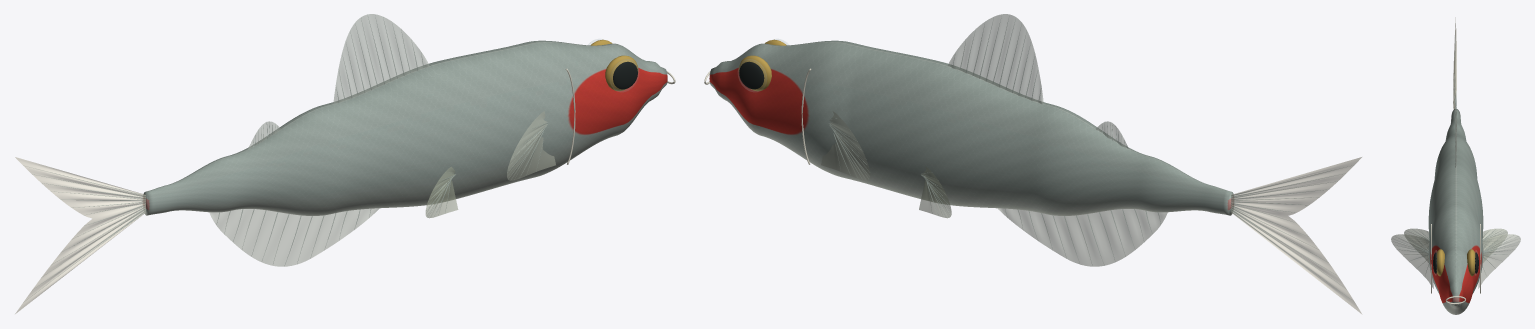
File: rummy-desktop.glb
3 renders of one model, left to right at view 1: azimuth 30°, elevation 25°; view 2: azimuth 150°, elevation 25°; view 3: azimuth 270°, elevation 25°, orthographic. The views are drawn at different scales.
Visible parts, largest first — view 1: skin, tail, anal, dorsal, dorsal-ray, pectoral-left, pelvic-left, eye-pupil--1, eye-iris--1; view 2: skin, tail, anal, dorsal, dorsal-ray, pectoral-left, pelvic-left, eye-pupil--1, eye-iris--1; view 3: skin, pectoral-left, pelvic-left, dorsal-ray, eye-iris--1, tail, operculum, eye-pupil--1, dorsal.
Part boxes in pixels (bbox=[...]): skin: bbox=[143, 40, 667, 215]; tail: bbox=[15, 157, 145, 313]; anal: bbox=[209, 208, 379, 266]; dorsal: bbox=[248, 14, 429, 149]; dorsal-ray: bbox=[25, 15, 548, 295]; pectoral-left: bbox=[507, 111, 555, 180]; pelvic-left: bbox=[425, 167, 458, 218]; eye-pupil--1: bbox=[613, 61, 637, 89]; eye-iris--1: bbox=[591, 39, 638, 91]; skin: bbox=[709, 40, 1233, 215]; tail: bbox=[1231, 157, 1361, 313]; anal: bbox=[998, 208, 1167, 266]; dorsal: bbox=[948, 14, 1128, 148]; dorsal-ray: bbox=[828, 18, 1351, 299]; pectoral-left: bbox=[821, 111, 870, 180]; pelvic-left: bbox=[919, 167, 951, 218]; eye-pupil--1: bbox=[739, 61, 764, 89]; eye-iris--1: bbox=[738, 39, 786, 91]; skin: bbox=[1428, 109, 1483, 314]; pectoral-left: bbox=[1391, 234, 1520, 288]; pelvic-left: bbox=[1404, 228, 1507, 262]; dorsal-ray: bbox=[1394, 36, 1517, 272]; eye-iris--1: bbox=[1436, 249, 1475, 276]; tail: bbox=[1453, 17, 1456, 109]; operculum: bbox=[1431, 224, 1480, 304]; eye-pupil--1: bbox=[1433, 252, 1478, 273]; dorsal: bbox=[1455, 100, 1456, 167].
Bounding box in the file's own units: 0.5972 × 0.2032 × 0.1425.
Materials: 11 (1 with a texture image).
